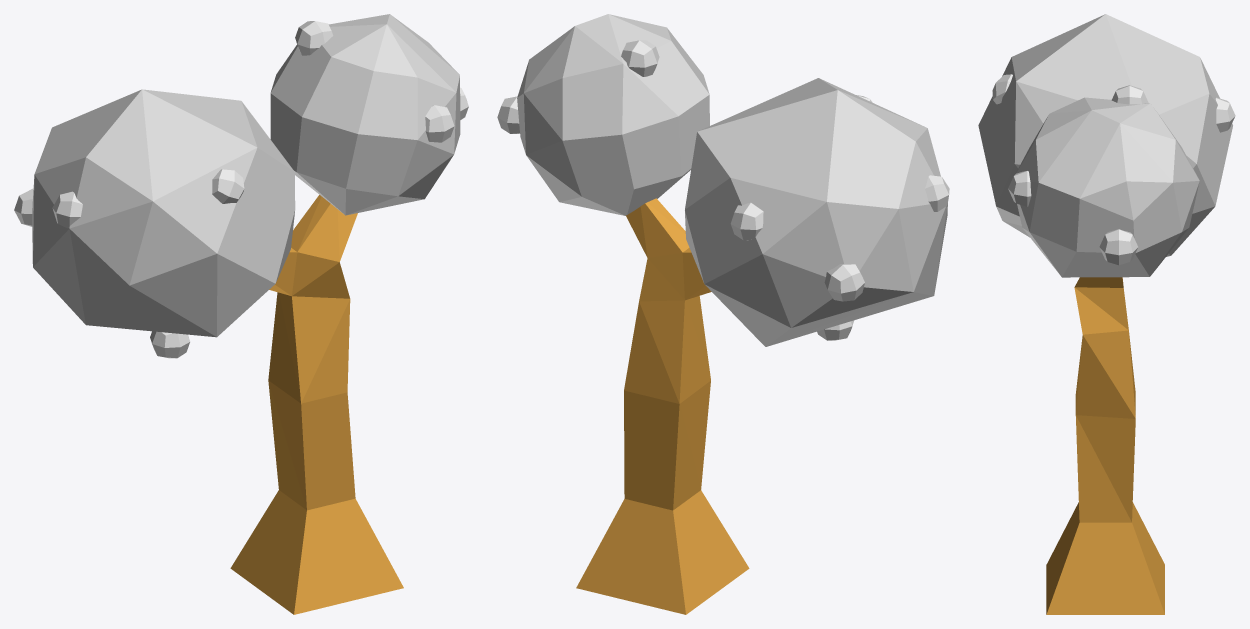
File: Apple_Tree.fbx
3 renders of one model, left to right at view 1: azimuth 30°, elevation 25°; view 2: azimuth 150°, elevation 25°; view 3: azimuth 270°, elevation 25°, orthographic. The views are drawn at different scales.
Visible parts, largest first — view 1: Apple; view 2: Apple; view 3: Apple.
Boxes of the visible parts, left/top/right/bottom form: Apple: left=14, top=14, right=468, bottom=614; Apple: left=497, top=14, right=949, bottom=614; Apple: left=978, top=14, right=1235, bottom=614.
Size of the model in its own units: 429 by 519 by 238.
